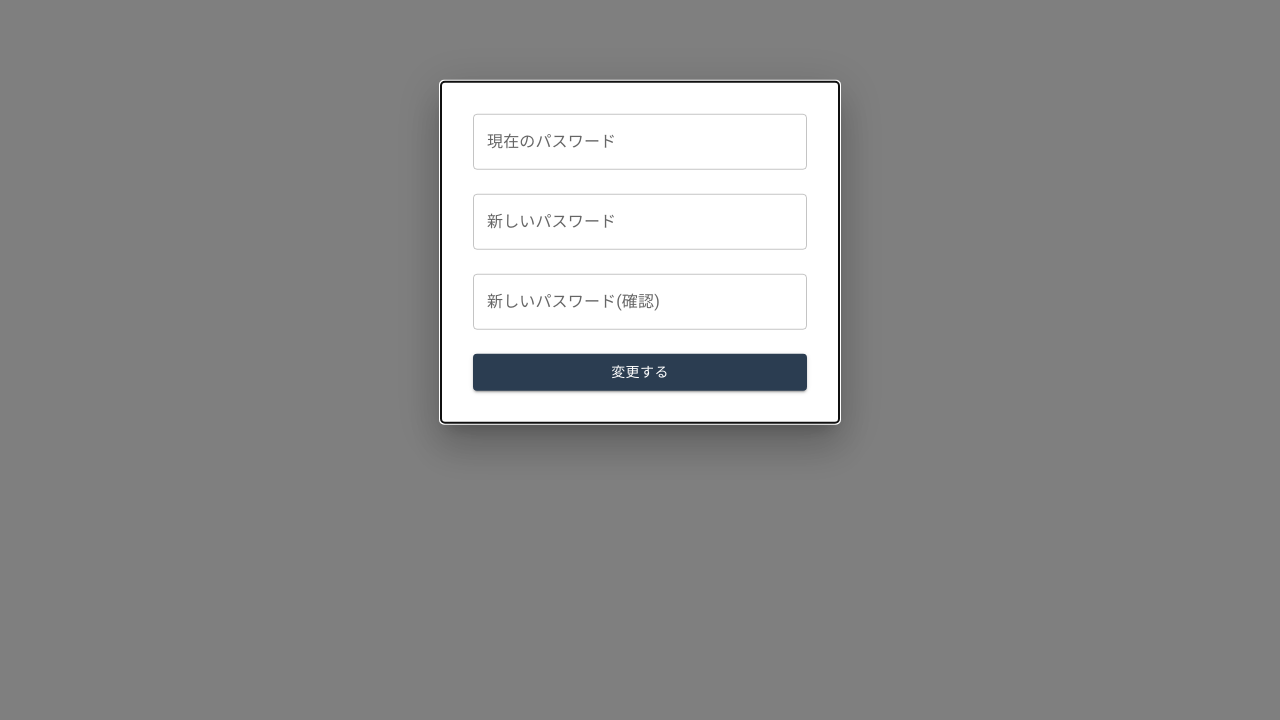
失敗する場合 › 現在のパスワードが6文字未満の場合、エラーメッセージが表示される
Type "12345" into the password field labelled "現在のパスワード". click: (640, 142)
box: x1=473 y1=114 x2=807 y2=170
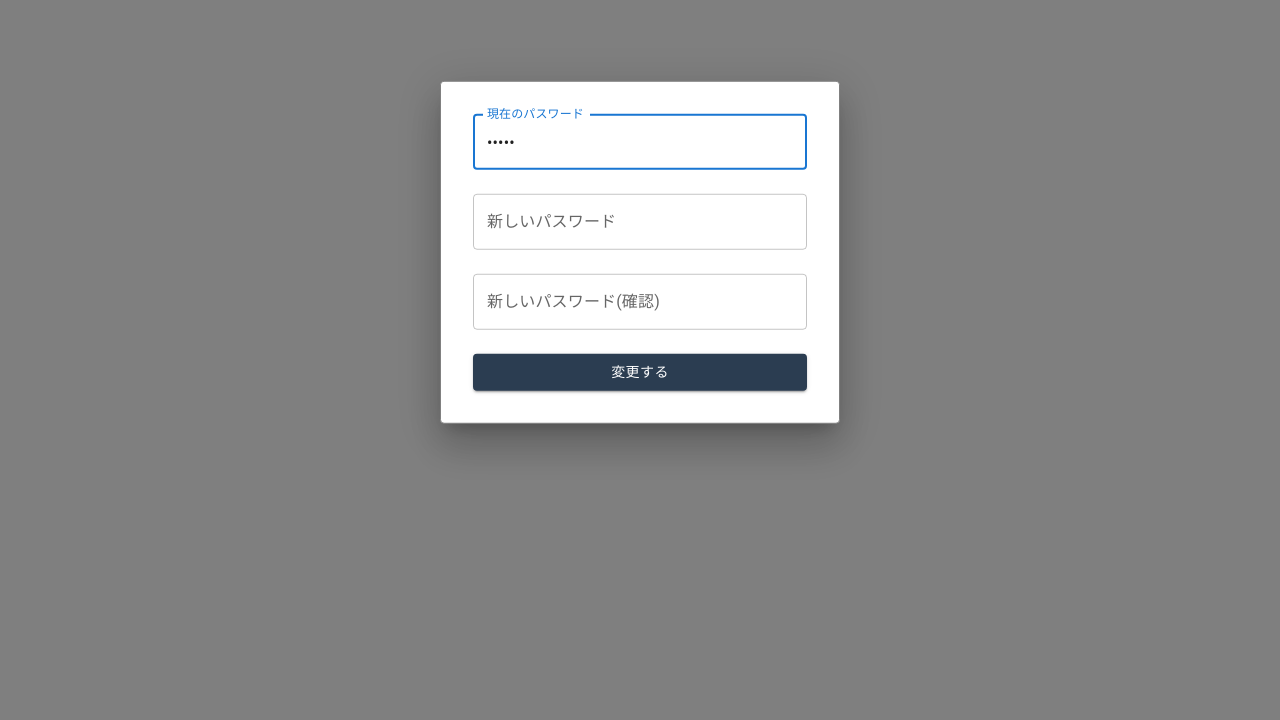
Type "234567" into the password field labelled "新しいパスワード". click: (640, 222)
box: x1=473 y1=194 x2=807 y2=250
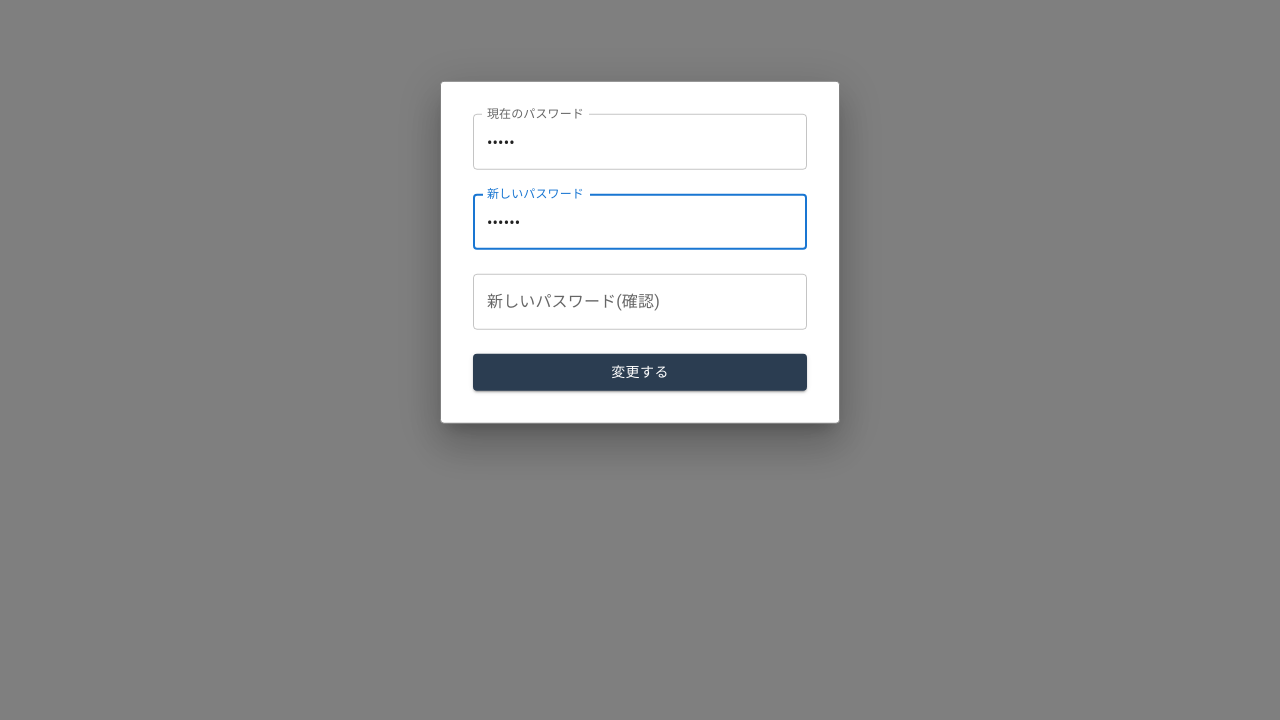
Type "234567" into the password field labelled "新しいパスワード(確認)". click: (640, 302)
box: x1=473 y1=274 x2=807 y2=330
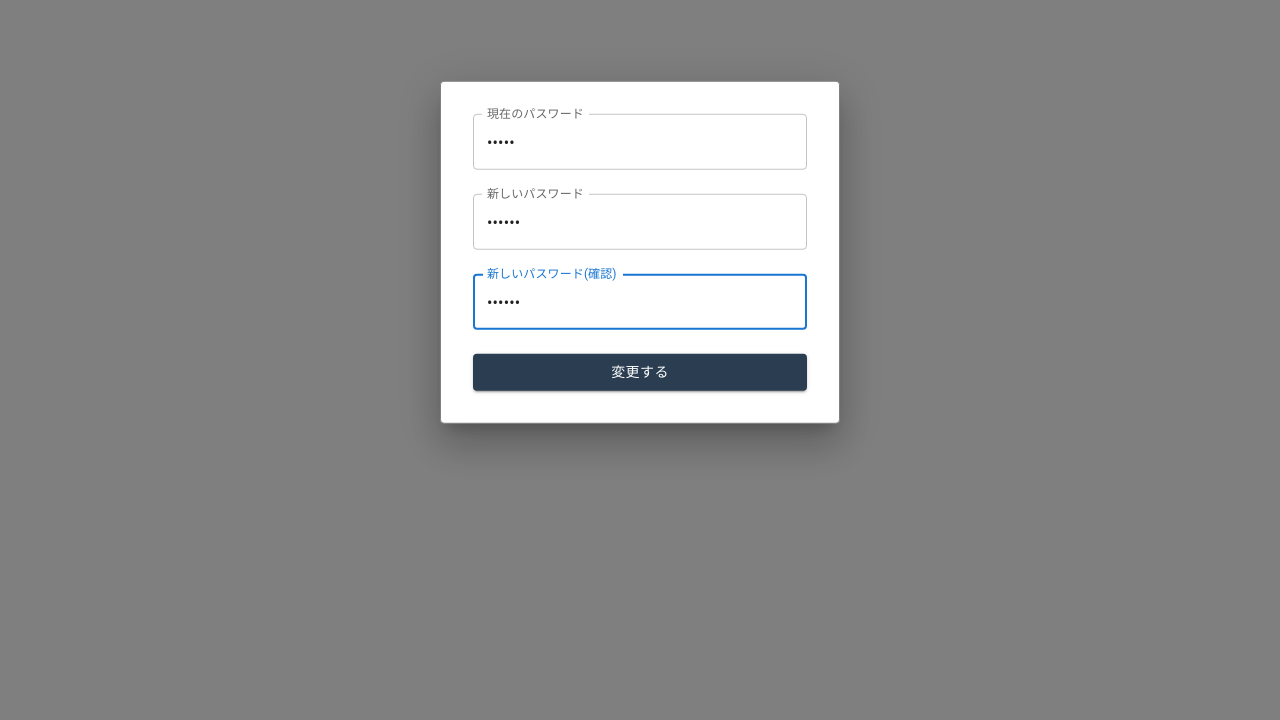
Click the button "変更する". click: (640, 372)
box: x1=473 y1=354 x2=807 y2=390
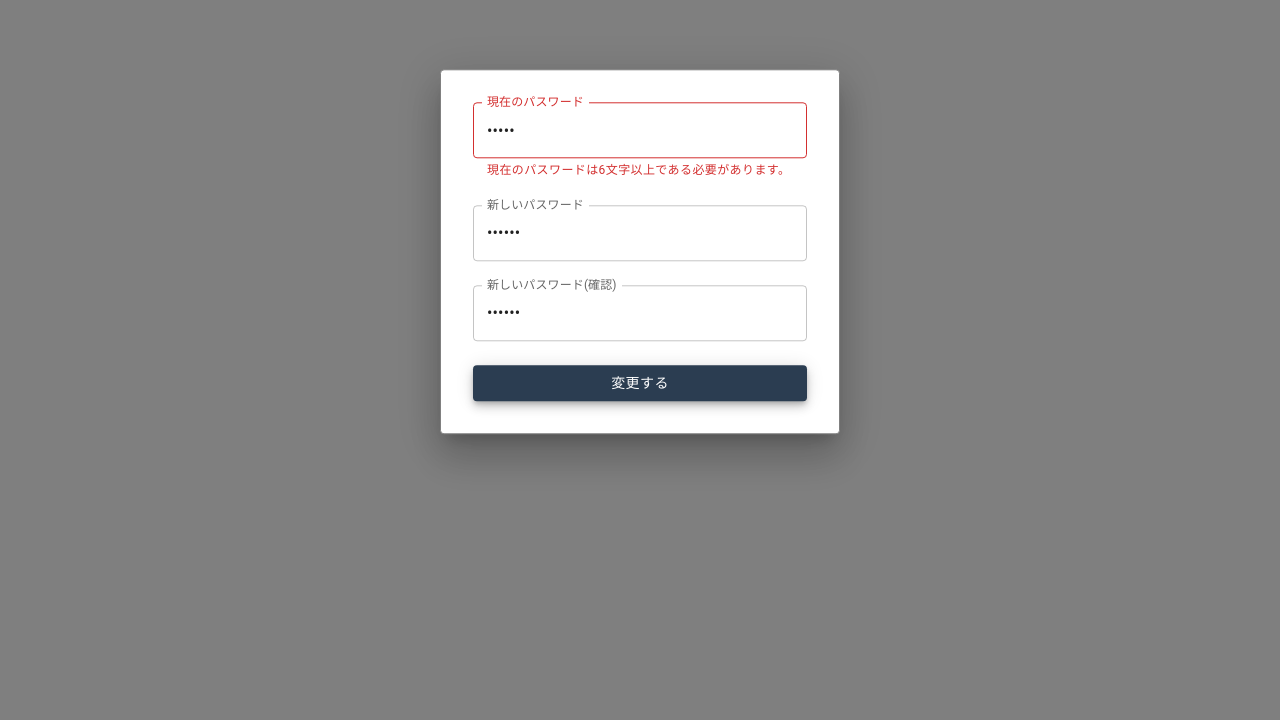
Expected: the text "現在のパスワードは6文字以上である必要があります。" is shown, x1=487 y1=161 x2=793 y2=181
